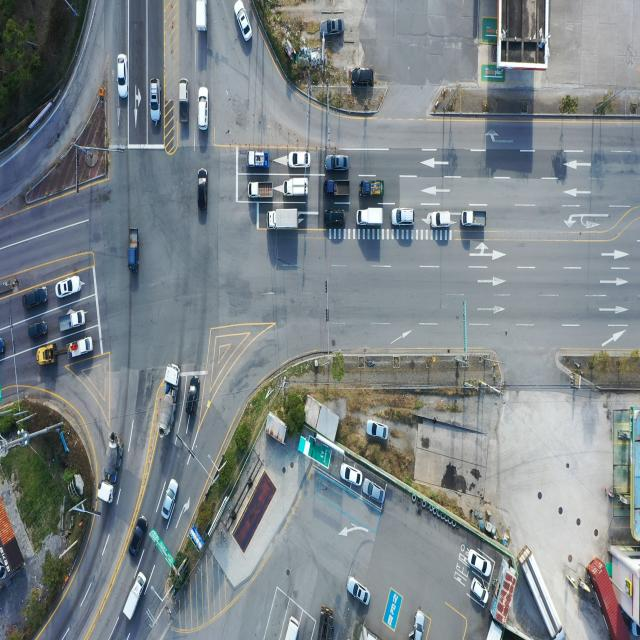car: (162, 478, 180, 520), (130, 518, 148, 560), (347, 576, 370, 605), (236, 3, 253, 42), (56, 276, 82, 300), (468, 552, 490, 578), (116, 54, 128, 100), (364, 480, 386, 505), (342, 463, 364, 487), (24, 287, 48, 309), (199, 85, 211, 129), (350, 66, 375, 86), (149, 78, 160, 122), (472, 580, 490, 606), (186, 378, 198, 416), (365, 420, 387, 440), (393, 208, 416, 227), (321, 19, 344, 38), (410, 611, 425, 640), (324, 156, 348, 174), (199, 168, 209, 209), (290, 150, 312, 168), (326, 210, 348, 228), (432, 211, 452, 228), (29, 321, 49, 338), (0, 338, 6, 358)
medium_truck: (521, 546, 565, 638), (98, 431, 125, 511), (156, 364, 180, 439), (266, 207, 300, 230), (319, 606, 336, 640)
small_bus: (281, 617, 300, 640)
small_truck: (124, 571, 148, 621), (59, 311, 86, 334), (68, 337, 94, 359), (357, 207, 385, 227), (325, 178, 351, 198), (283, 178, 308, 198), (250, 183, 276, 202), (178, 79, 189, 123), (248, 151, 272, 171), (462, 210, 487, 228), (360, 179, 385, 197), (130, 227, 140, 271), (194, 1, 207, 34)
